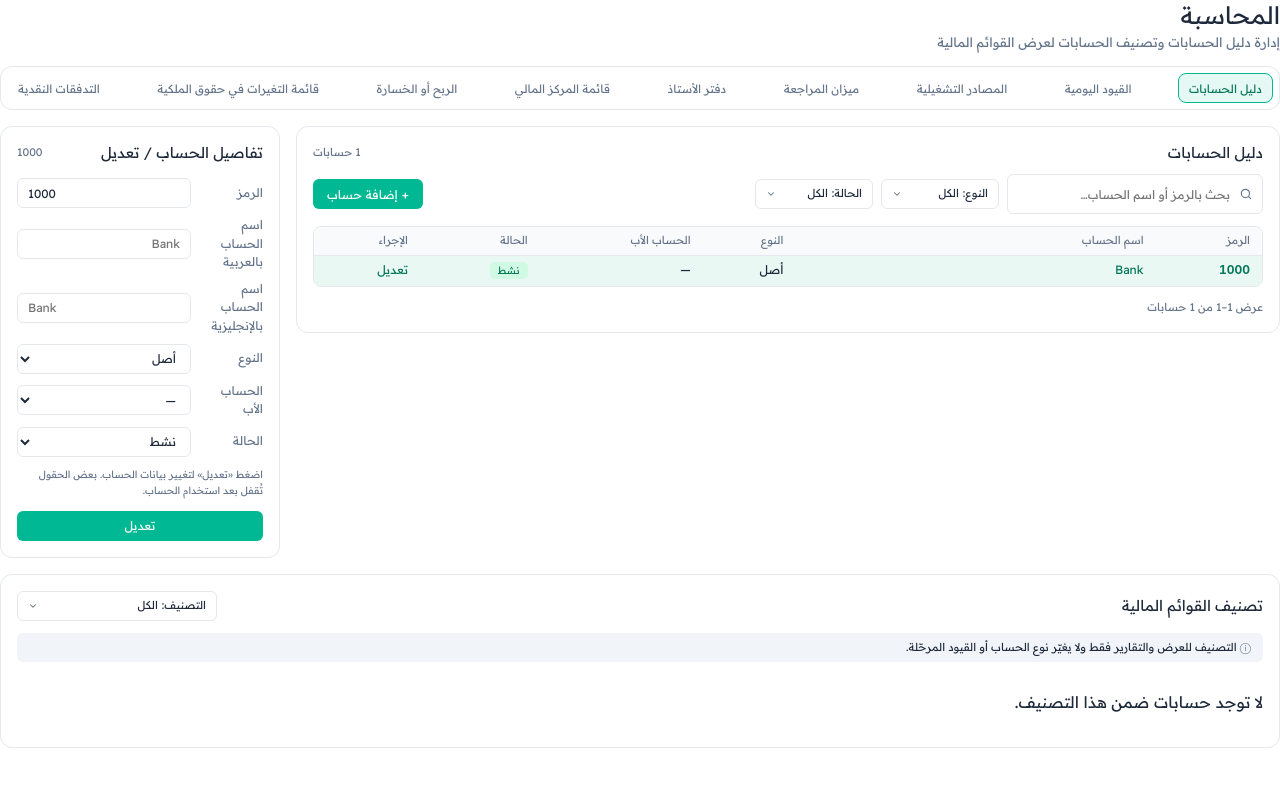
Test: Chart of Accounts edit mode (Task 30A) › restores the original values on Cancel
Click the button "تعديل" below "اسم الحساب بالإنجليزية" at (140, 526), box x1=17 y1=511 x2=263 y2=541
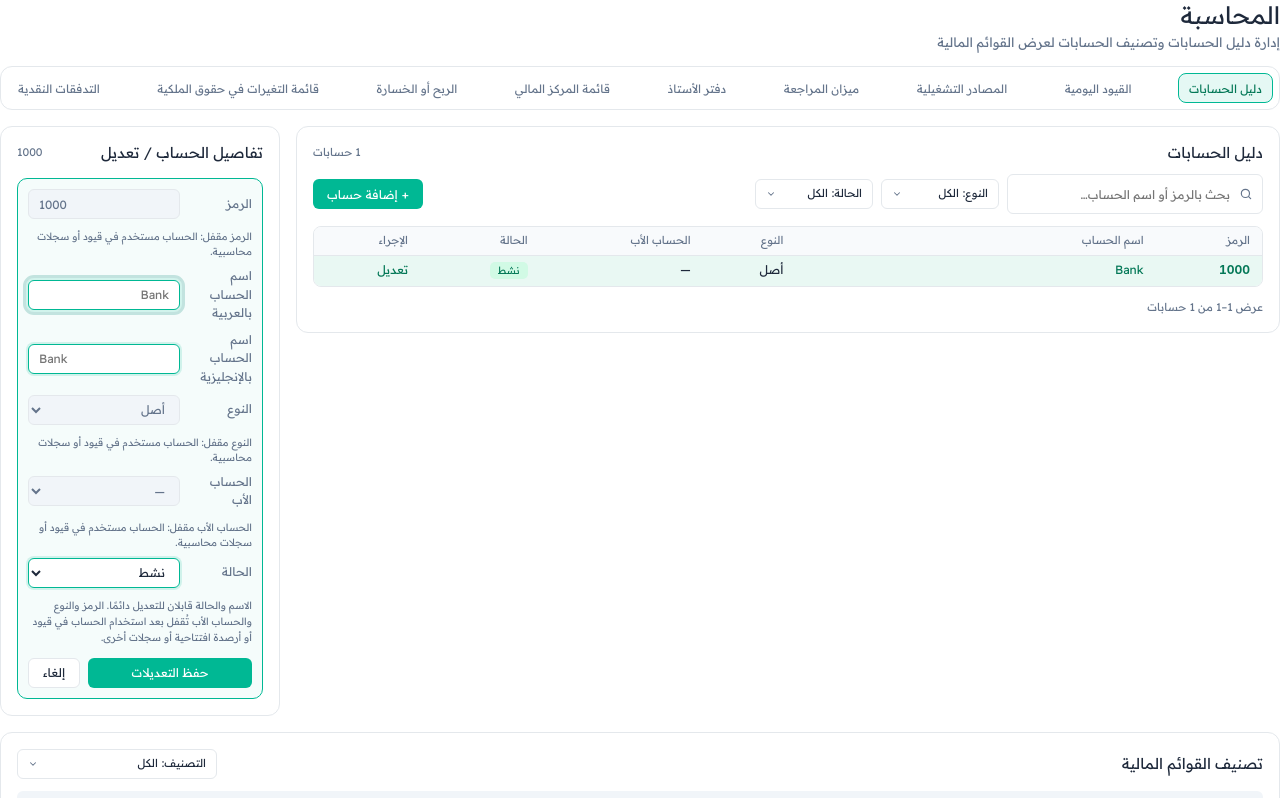
Type "Changed" into the field labelled "اسم الحساب بالعربية" at (104, 295), box x1=28 y1=280 x2=180 y2=310
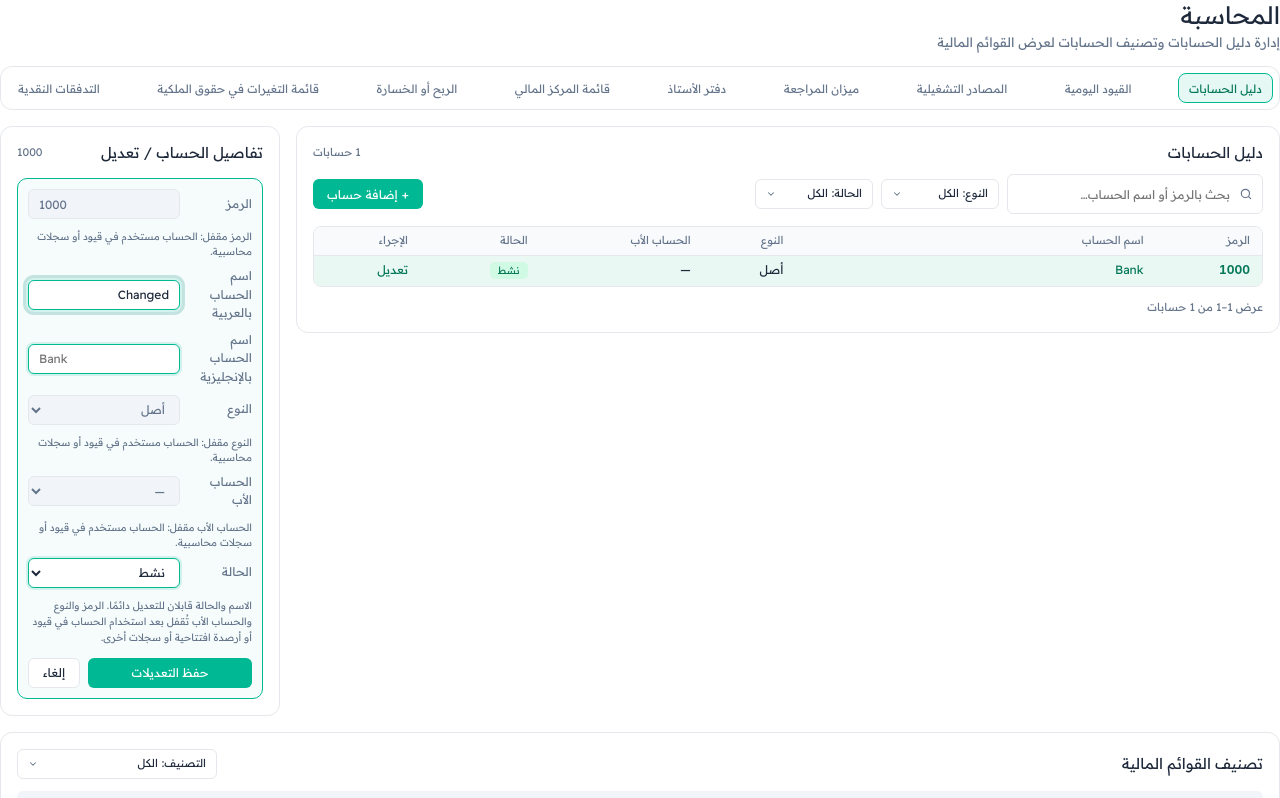
Click the button "إلغاء" at (54, 673), box x1=28 y1=658 x2=80 y2=688
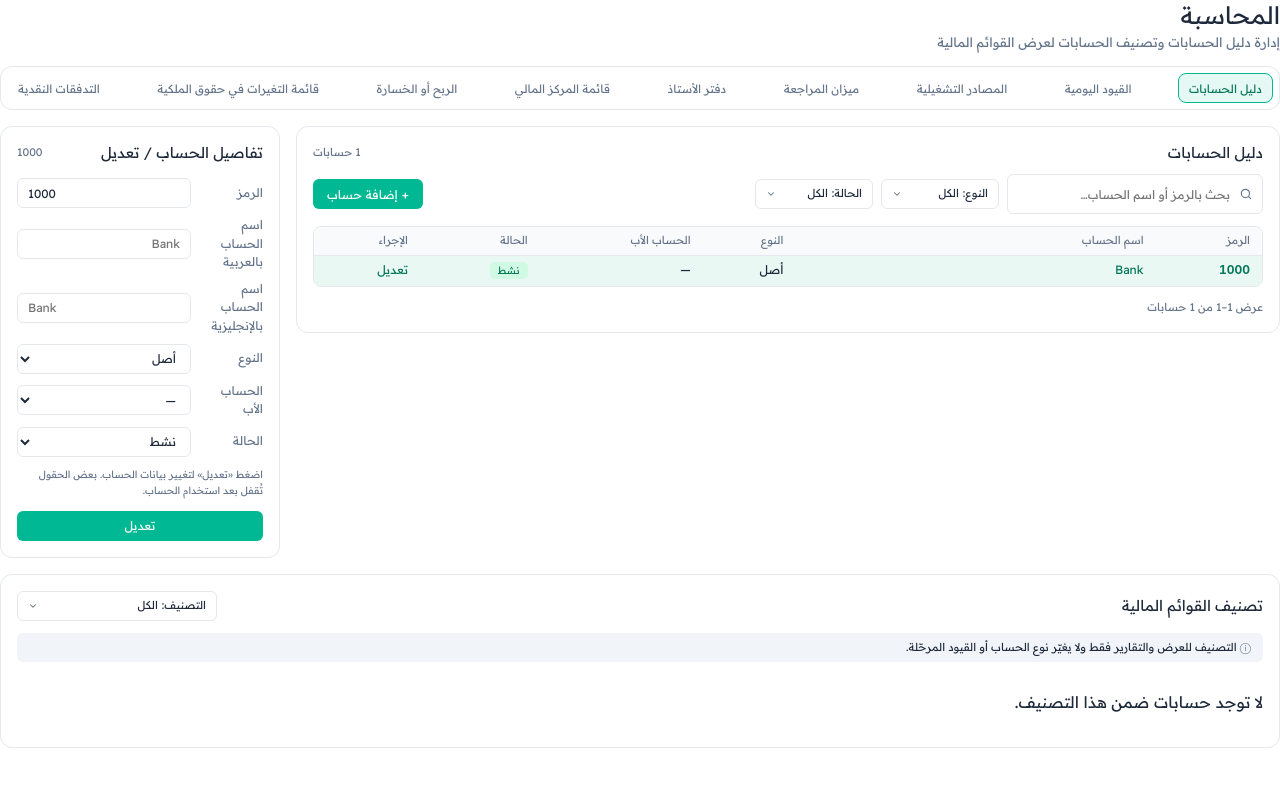
Result: the field labelled "اسم الحساب بالعربية" is empty at x1=17 y1=229 x2=191 y2=259
Result: the field labelled "اسم الحساب بالعربية" is disabled at x1=17 y1=229 x2=191 y2=259
